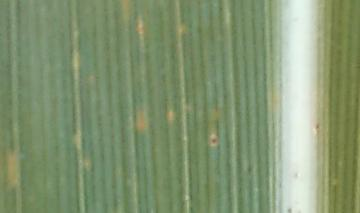tarspot: (210, 136, 218, 146), (314, 121, 322, 131), (287, 207, 294, 213)
